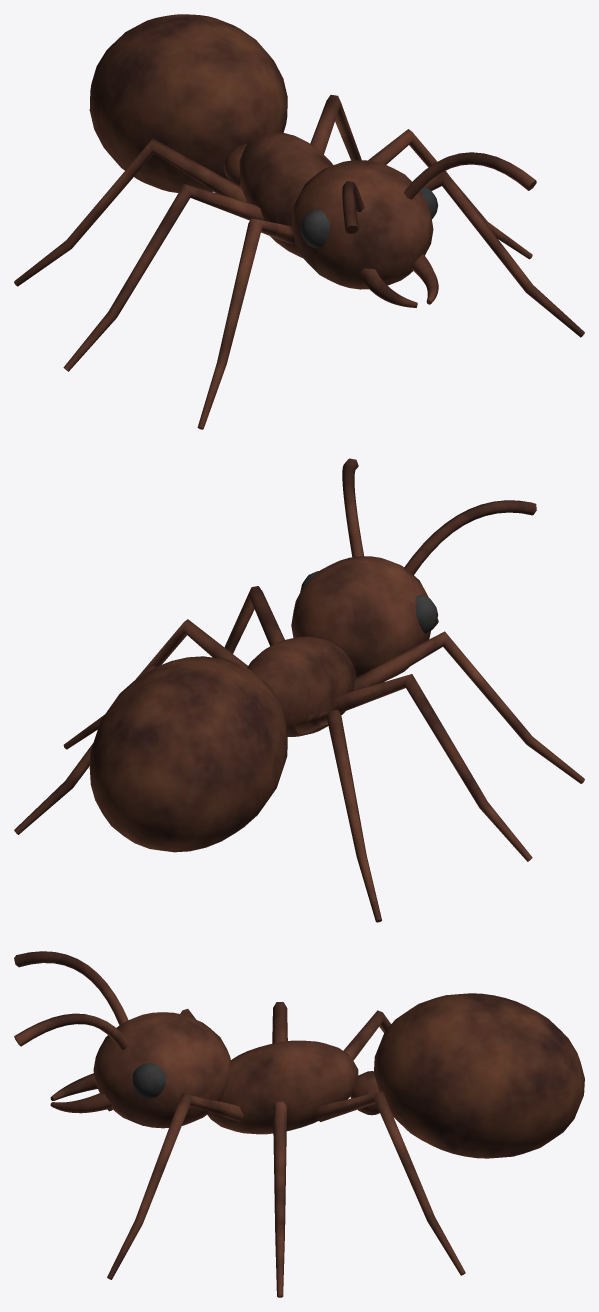
The model's file is ant.glb.
3 renders of one model, top to bottom at view 1: azimuth 30°, elevation 25°; view 2: azimuth 150°, elevation 25°; view 3: azimuth 270°, elevation 25°, orthographic. The views are drawn at different scales.
Parts seen in each view (by area): view 1: ant; view 2: ant; view 3: ant.
Part boxes in pixels (<box>): ant: <box>14,14,584,429</box>; ant: <box>14,458,584,922</box>; ant: <box>14,951,584,1297</box>.
Size of the model in its own units: 1.56 by 0.7327 by 1.8.
Materials: 1 (1 with a texture image).
